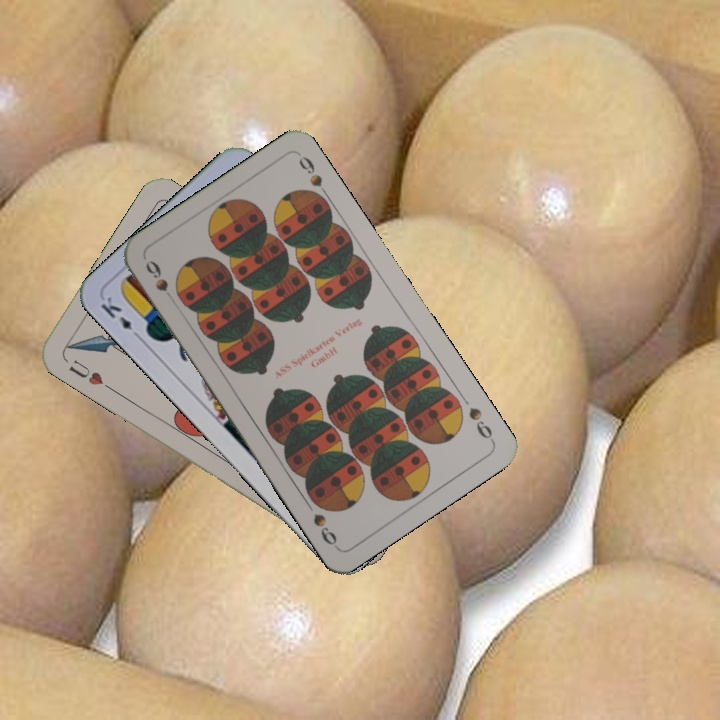EK: (96, 292, 145, 343)
HU: (65, 355, 114, 393)
S9: (141, 256, 176, 305), (464, 403, 497, 445)
